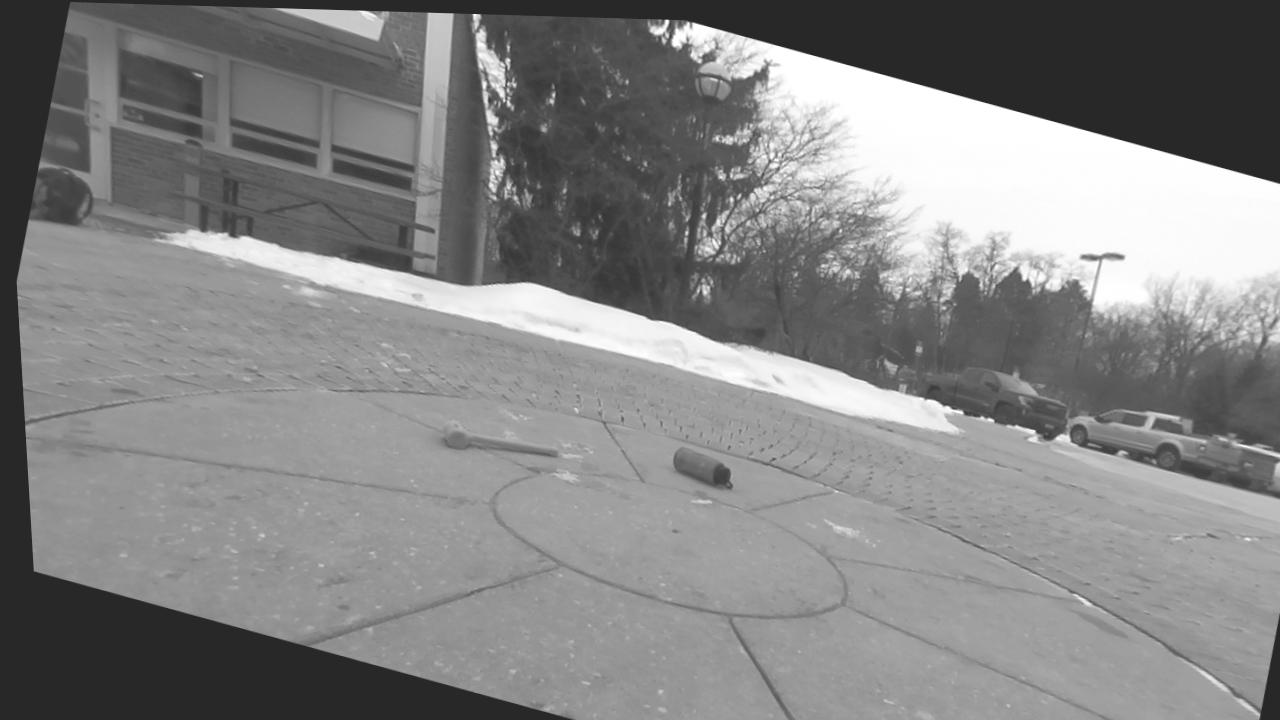bottle: (673, 447, 731, 487)
mallet: (442, 420, 559, 456)
